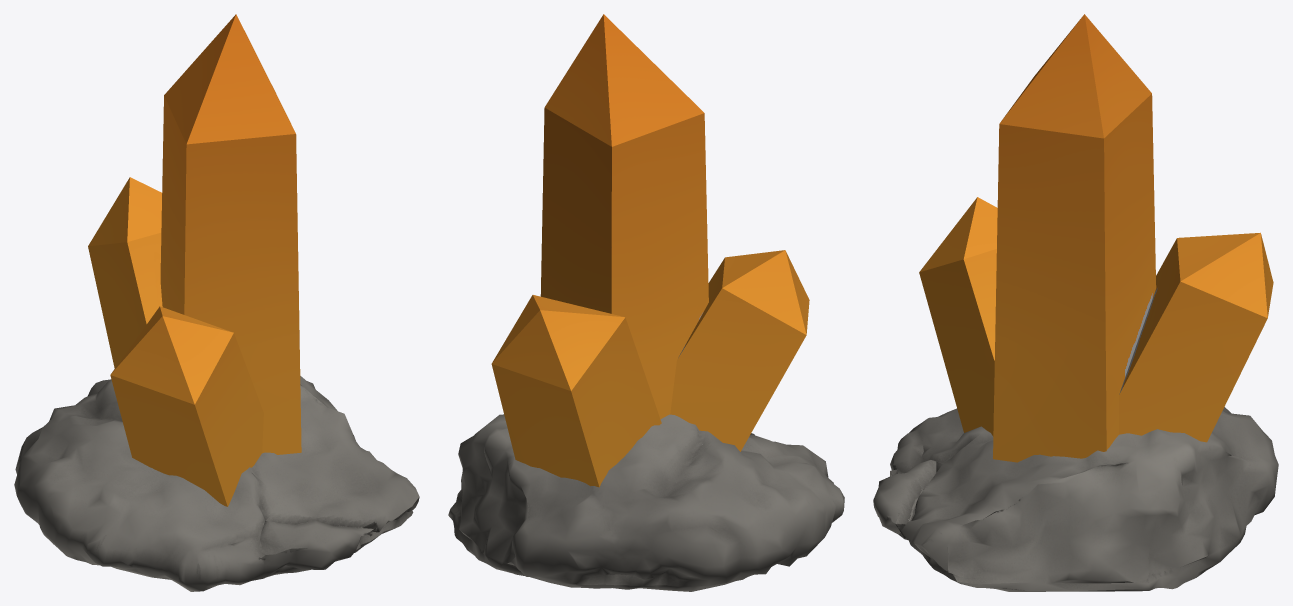
Rendered from topacio_bruto.fbx.
3 views of the same model, side by side, from view 1: azimuth 30°, elevation 25°; view 2: azimuth 150°, elevation 25°; view 3: azimuth 270°, elevation 25° (orthographic). The views are drawn at different scales.
Parts seen in each view (by area): view 1: topacio_bruto_cristal, topacio_bruto; view 2: topacio_bruto_cristal, topacio_bruto; view 3: topacio_bruto_cristal, topacio_bruto.
Boxes of the visible parts, bbox=[...] form: topacio_bruto_cristal: bbox=[88, 14, 301, 506]; topacio_bruto: bbox=[14, 376, 419, 591]; topacio_bruto_cristal: bbox=[491, 14, 809, 487]; topacio_bruto: bbox=[448, 414, 844, 591]; topacio_bruto_cristal: bbox=[919, 14, 1273, 462]; topacio_bruto: bbox=[873, 407, 1278, 591].
Bounding box in the file's own units: 2.22 × 3.23 × 2.26.
Materials: 2 (2 with a texture image).
